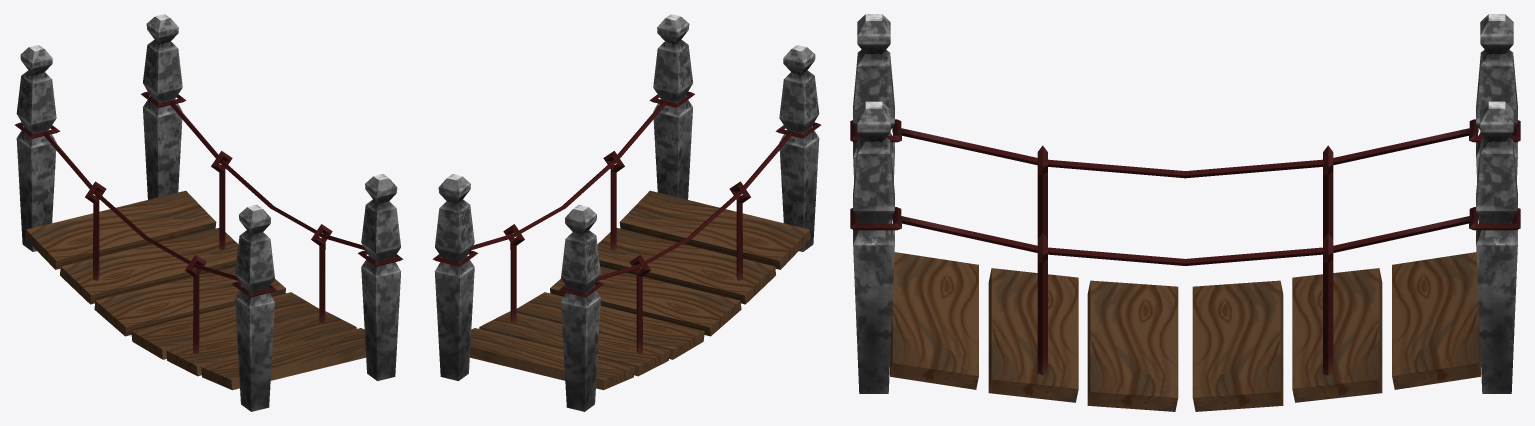
Rendered from Bridge_First.FBX.
The picture shows the model from 3 angles, left to right: view 1: azimuth 30°, elevation 25°; view 2: azimuth 150°, elevation 25°; view 3: azimuth 270°, elevation 25°; orthographic projection. The views are drawn at different scales.
Visible parts, largest first — view 1: E01_Bridge001; view 2: E01_Bridge001; view 3: E01_Bridge001.
Part boxes in pixels (box(x1,y1,x2,y2)): E01_Bridge001: box(15, 14, 403, 411); E01_Bridge001: box(432, 14, 820, 411); E01_Bridge001: box(850, 14, 1520, 411).
Size of the model in its own units: 373 by 461 by 949.
